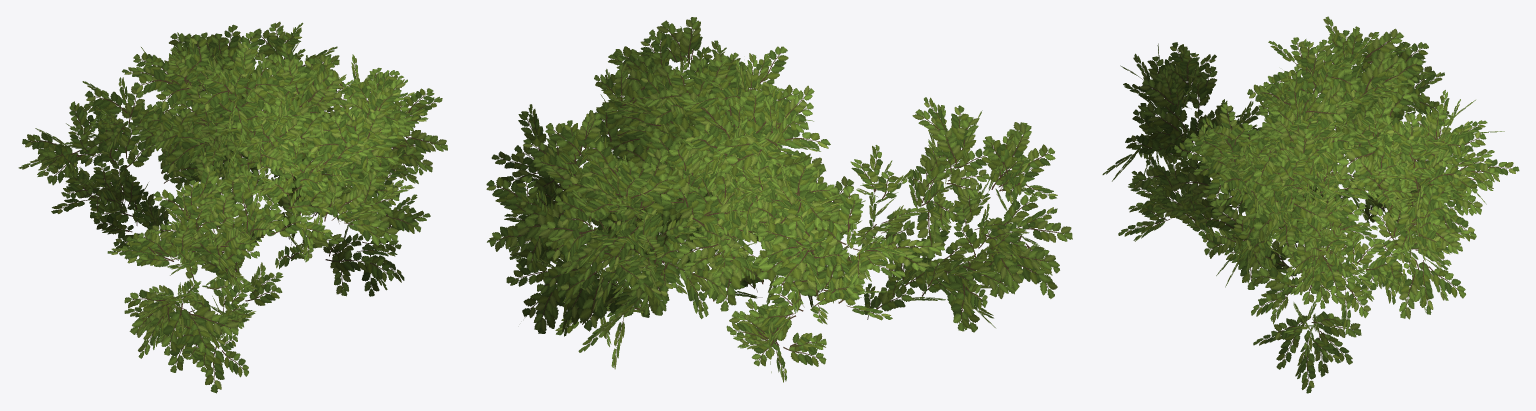
File: SM_Tree_Oak_A_Leaves.glb
The picture shows the model from 3 angles, left to right: view 1: azimuth 30°, elevation 25°; view 2: azimuth 150°, elevation 25°; view 3: azimuth 270°, elevation 25°; orthographic projection. The views are drawn at different scales.
Visible parts, largest first — view 1: SM_Tree_Oak_A_Leaves; view 2: SM_Tree_Oak_A_Leaves; view 3: SM_Tree_Oak_A_Leaves.
Part boxes in pixels (<box>): SM_Tree_Oak_A_Leaves: <box>18,21,447,393</box>; SM_Tree_Oak_A_Leaves: <box>486,17,1072,382</box>; SM_Tree_Oak_A_Leaves: <box>1102,16,1519,393</box>.
Bounding box in the file's own units: 12.74 × 8.57 × 11.33.
Materials: 1 (1 with a texture image).
